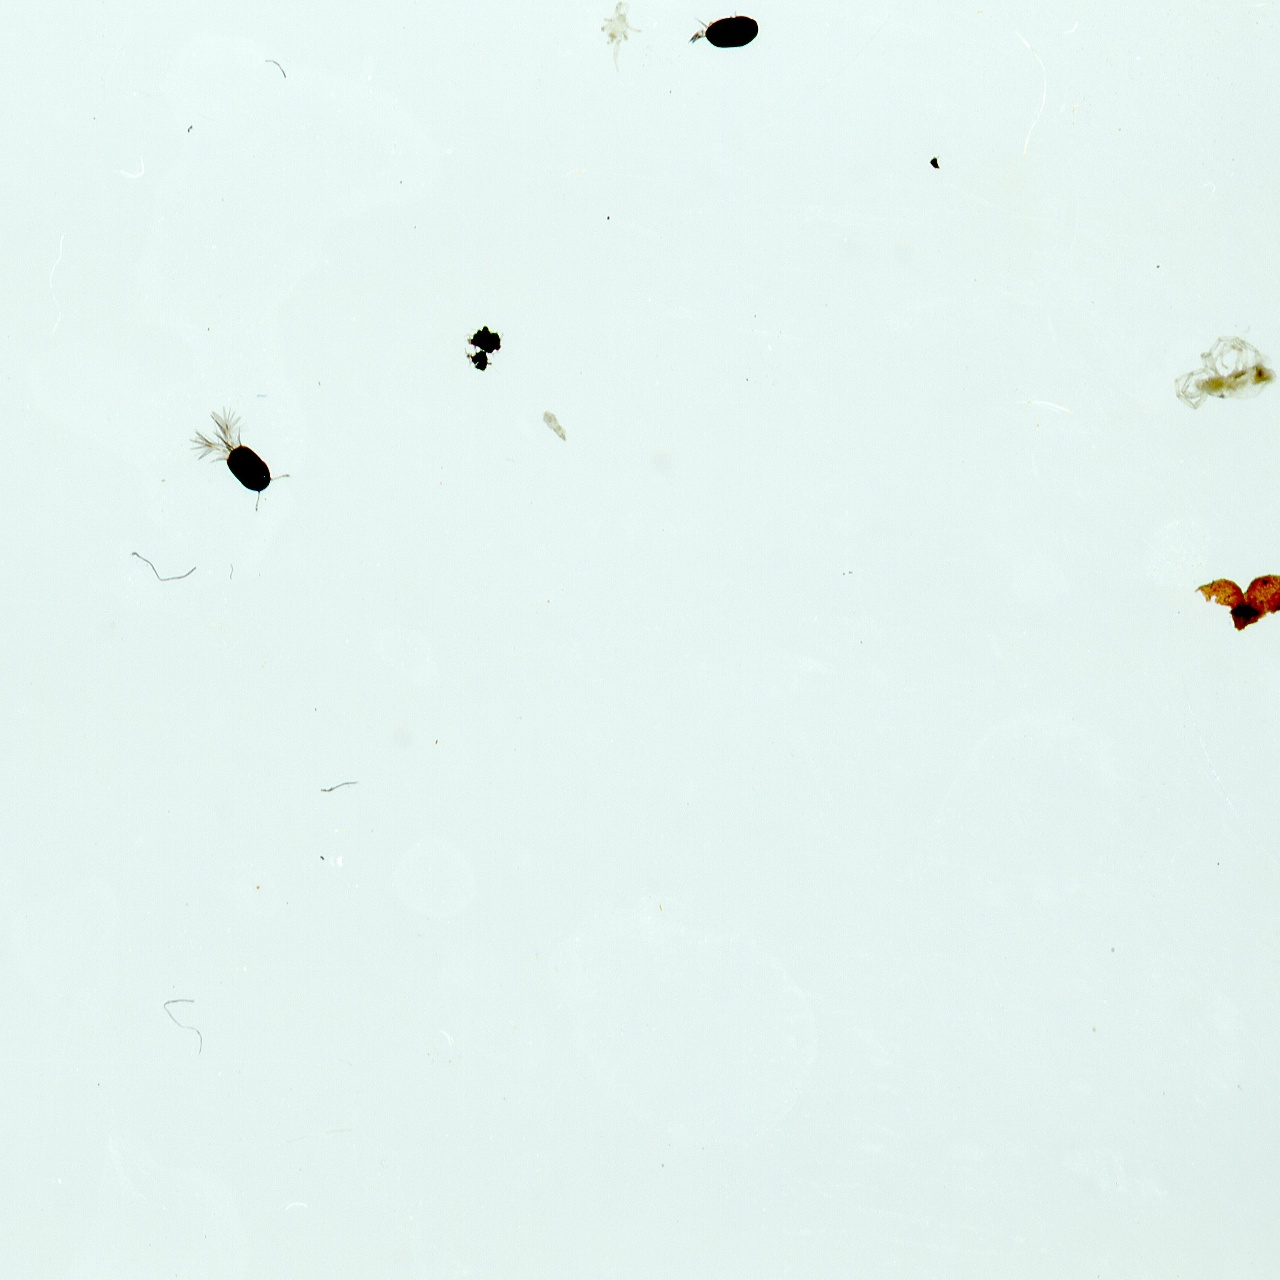arthropod: (178, 395, 301, 518), (1171, 332, 1280, 413), (594, 0, 645, 80), (693, 8, 763, 50)
